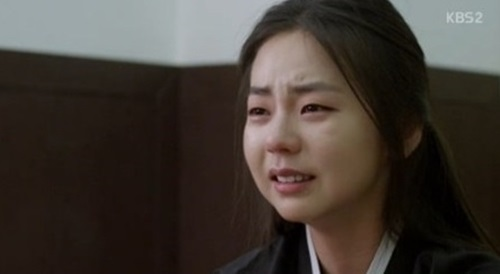sad: (242, 52, 371, 217)
